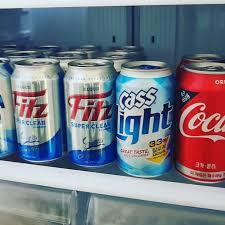beer: (1, 43, 225, 185)
